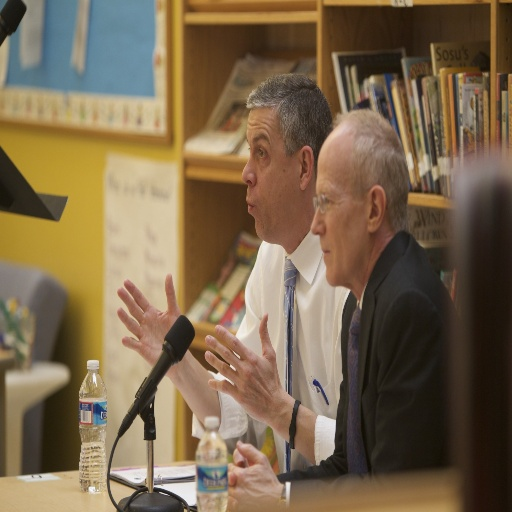hand: (183, 334, 296, 426), (116, 270, 188, 374), (227, 439, 283, 511), (228, 444, 249, 485)
